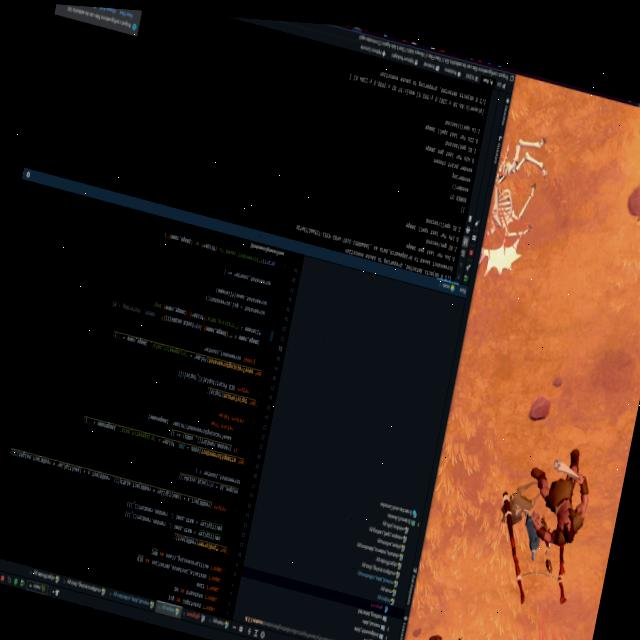ore: (505, 420, 611, 566), (411, 631, 471, 640)
